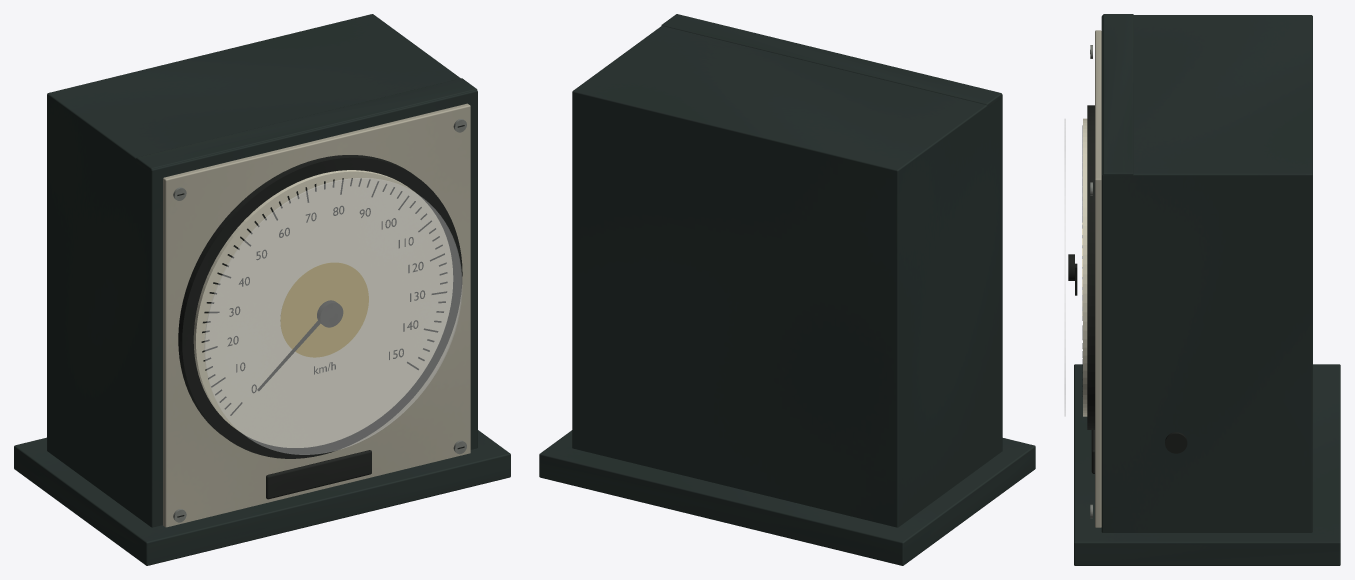
The model's file is speedometer_metal_refined.glb.
The picture shows the model from 3 angles, left to right: view 1: azimuth 30°, elevation 25°; view 2: azimuth 150°, elevation 25°; view 3: azimuth 270°, elevation 25°; orthographic projection.
Parts seen in each view (by area): view 1: Fixed_Square_Housing, Fixed_Protective_Glass, Dial_Face, Fixed_Front_Metal_Panel, Fixed_Foot, Dial_Dark_Bezel, Dial_Yellow_Center, Top_Case_Lip, Fixed_Nameplate; view 2: Fixed_Square_Housing, Fixed_Foot, Top_Case_Lip; view 3: Fixed_Square_Housing, Fixed_Foot, Top_Case_Lip, Fixed_Front_Metal_Panel, Dial_Dark_Bezel, Dial_Face, Fixed_Protective_Glass, Side_Service_Plug.
Part boxes in pixels (left/top/right/bottom): Fixed_Square_Housing: left=47, top=14, right=477, bottom=527; Fixed_Protective_Glass: left=204, top=178, right=462, bottom=454; Dial_Face: left=193, top=170, right=453, bottom=447; Fixed_Front_Metal_Panel: left=163, top=103, right=470, bottom=527; Fixed_Foot: left=14, top=430, right=510, bottom=565; Dial_Dark_Bezel: left=178, top=155, right=462, bottom=458; Dial_Yellow_Center: left=280, top=262, right=368, bottom=357; Top_Case_Lip: left=136, top=78, right=477, bottom=171; Fixed_Nameplate: left=266, top=450, right=371, bottom=499; Fixed_Square_Housing: left=572, top=26, right=1002, bottom=527; Fixed_Foot: left=539, top=430, right=1035, bottom=565; Top_Case_Lip: left=661, top=14, right=1001, bottom=108; Fixed_Square_Housing: left=1101, top=15, right=1312, bottom=532; Fixed_Foot: left=1074, top=364, right=1340, bottom=565; Top_Case_Lip: left=1103, top=14, right=1133, bottom=177; Fixed_Front_Metal_Panel: left=1095, top=30, right=1101, bottom=527; Dial_Dark_Bezel: left=1087, top=105, right=1094, bottom=429; Dial_Face: left=1083, top=118, right=1087, bottom=416; Fixed_Protective_Glass: left=1064, top=119, right=1065, bottom=416; Side_Service_Plug: left=1165, top=432, right=1187, bottom=453.
Size of the model in its own units: 0.19 by 0.1905 by 0.1244.
Materials: 8 (5 with a texture image).
